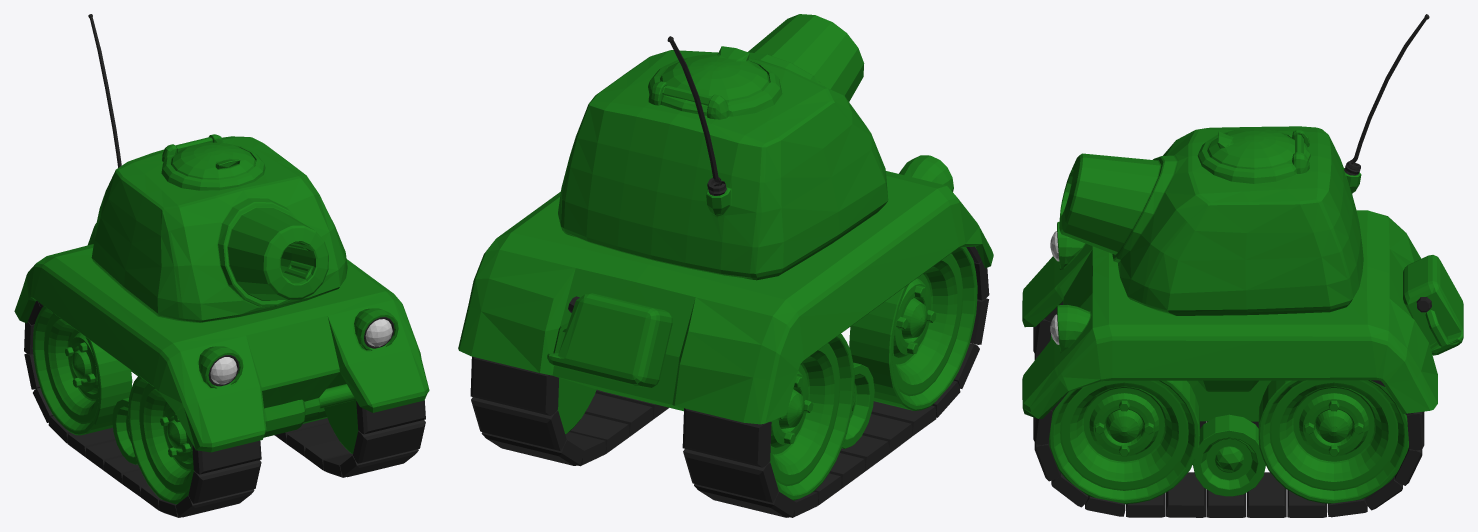
File: Tank.fbx
The picture shows the model from 3 angles, left to right: view 1: azimuth 30°, elevation 25°; view 2: azimuth 150°, elevation 25°; view 3: azimuth 270°, elevation 25°; orthographic projection. The views are drawn at different scales.
Parts seen in each view (by area): view 1: TankChassis, TankTurret, TankTracksRight, TankTracksLeft; view 2: TankChassis, TankTurret, TankTracksRight, TankTracksLeft; view 3: TankChassis, TankTurret, TankTracksLeft, TankTracksRight.
Part boxes in pixels (x1=…): TankChassis: x1=14, y1=223, x2=429, y2=464; TankTurret: x1=88, y1=14, x2=347, y2=322; TankTracksRight: x1=24, y1=301, x2=261, y2=517; TankTracksLeft: x1=274, y1=372, x2=425, y2=477; TankChassis: x1=458, y1=155, x2=993, y2=448; TankTurret: x1=558, y1=14, x2=888, y2=280; TankTracksRight: x1=682, y1=246, x2=989, y2=517; TankTracksLeft: x1=470, y1=356, x2=668, y2=466; TankChassis: x1=1022, y1=210, x2=1463, y2=496; TankTurret: x1=1059, y1=14, x2=1429, y2=315; TankTracksLeft: x1=1033, y1=380, x2=1424, y2=517; TankTracksRight: x1=1033, y1=302, x2=1258, y2=428.
Size of the model in its own units: 170 by 237 by 249.
